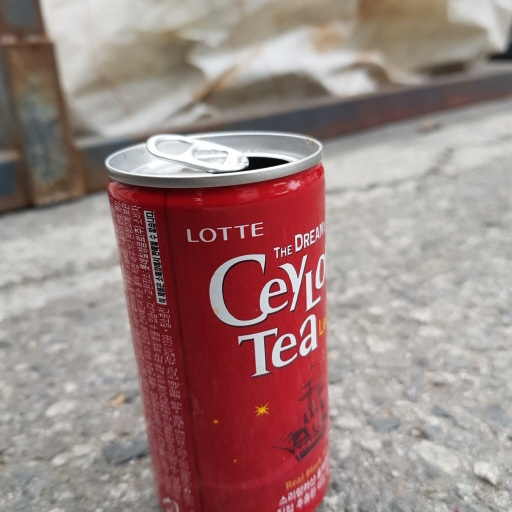Metal_0: (102, 129, 334, 512)
